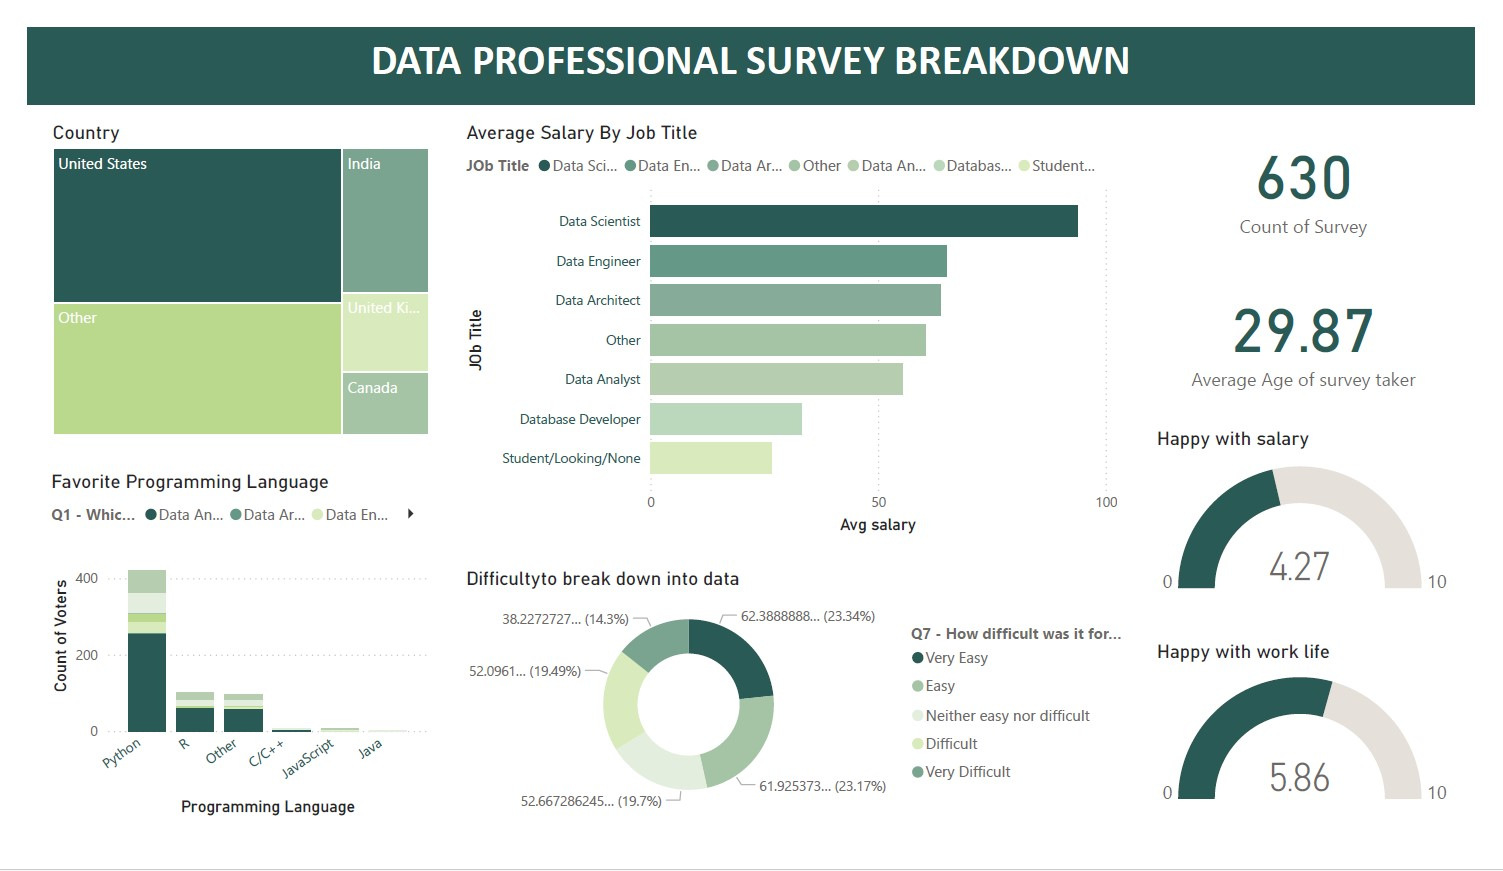

The dashboard page shown, as its layout file describes it:
{"tool":"powerbi","page":{"name":"Page 1","canvas":[1280,720],"ordinal":0},"visuals":[{"type":"textbox","box":[0,0,1279.1,68.3],"z":0},{"type":"card","fields":{"Values":["CountNonNull(Data Professional Survey.Unique ID)"]},"box":[984.2,75,286.8,123.8],"z":1000},{"type":"card","fields":{"Values":["Avg(Data Professional Survey.Q10 - Current Age)"]},"box":[984.2,205.9,286.8,132.1],"z":2000},{"type":"barChart","title":"Average Salary By Job Title","fields":{"Category":["Data Professional Survey.Q1 - Which Title Best Fits your Current Role?.1"],"Y":["Avg(Data Professional Survey.Avg salary)"],"Series":["Data Professional Survey.Q1 - Which Title Best Fits your Current Role?.1"]},"box":[374.9,75,601,385.6],"z":3000},{"type":"columnChart","title":"Favorite Programming Language","fields":{"Category":["Data Professional Survey.Q5 - Favorite Programming Language.1.1"],"Y":["CountNonNull(Data Professional Survey.Unique ID)"],"Series":["Data Professional Survey.Q1 - Which Title Best Fits your Current Role?.1"]},"box":[8.3,383.2,358.2,326.1],"z":4000},{"type":"treemap","title":"Country ","fields":{"Group":["Data Professional Survey.Q11 - Which Country do you live in?.1"],"Values":["CountNonNull(Data Professional Survey.Q11 - Which Country do you live in?.1)"]},"box":[9.5,75,358.2,298.7],"z":5000},{"type":"gauge","title":"Happy with work life","fields":{"Y":["Avg(Data Professional Survey.Q6 - How Happy are you in your Current Position with the following? (Coworkers))"],"MinValue":["Min(Data Professional Survey.Q6 - How Happy are you in your Current Position with the following? (Coworkers))"],"MaxValue":["Max(Data Professional Survey.Q6 - How Happy are you in your Current Position with the following? (Coworkers))"]},"box":[985.4,533.2,286.8,176.1],"z":6000},{"type":"gauge","title":"Happy with salary  ","fields":{"Y":["Avg(Data Professional Survey.Q6 - How Happy are you in your Current Position with the following? (Salary))"],"MinValue":["Min(Data Professional Survey.Q6 - How Happy are you in your Current Position with the following? (Salary))"],"MaxValue":["Max(Data Professional Survey.Q6 - How Happy are you in your Current Position with the following? (Salary))"]},"box":[985.4,345.1,286.8,179.7],"z":7000},{"type":"donutChart","title":"Difficultyto break down into data","fields":{"Category":["Data Professional Survey.Q7 - How difficult was it for you to break into Data?"],"Y":["Avg(Data Professional Survey.Avg salary)"]},"box":[374.9,468.9,601,240.4],"z":8000}]}

Visuals, with their boxes in screenshot pixels (x1, y1, x2, y2), scaled from the page's 1280x720 canvas onto the 1503x871 screenshot:
textbox: crop(0, 0, 1502, 83)
card - CountNonNull(Data Professional Survey.Unique ID): crop(1156, 91, 1492, 240)
card - Avg(Data Professional Survey.Q10 - Current Age): crop(1156, 249, 1492, 409)
"Average Salary By Job Title" barChart: crop(440, 91, 1146, 557)
"Favorite Programming Language" columnChart: crop(10, 464, 430, 858)
"Country " treemap: crop(11, 91, 432, 452)
"Happy with work life" gauge: crop(1157, 645, 1494, 858)
"Happy with salary  " gauge: crop(1157, 417, 1494, 635)
"Difficultyto break down into data" donutChart: crop(440, 567, 1146, 858)
